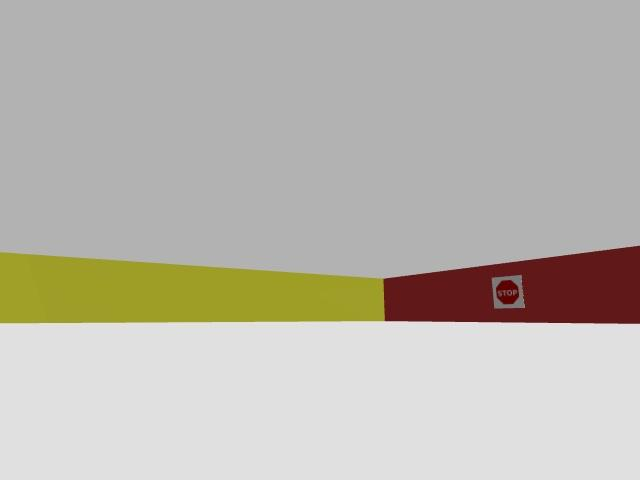stop: (494, 276, 524, 307)
